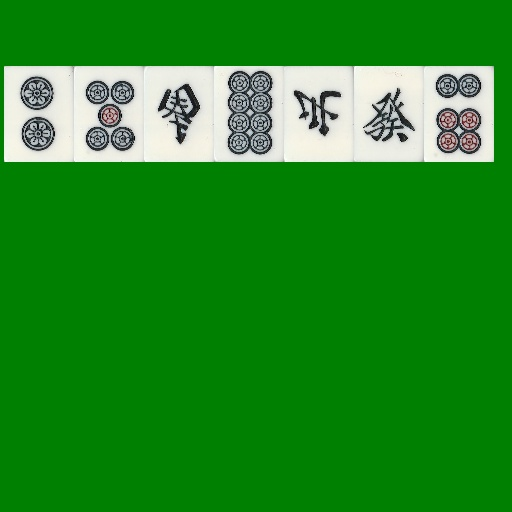2p: (4, 66, 74, 162)
5p: (74, 66, 144, 162)
6p: (424, 66, 494, 162)
8p: (214, 66, 284, 162)
hatsu: (354, 66, 424, 162)
north: (284, 66, 354, 162)
south: (144, 66, 214, 162)
